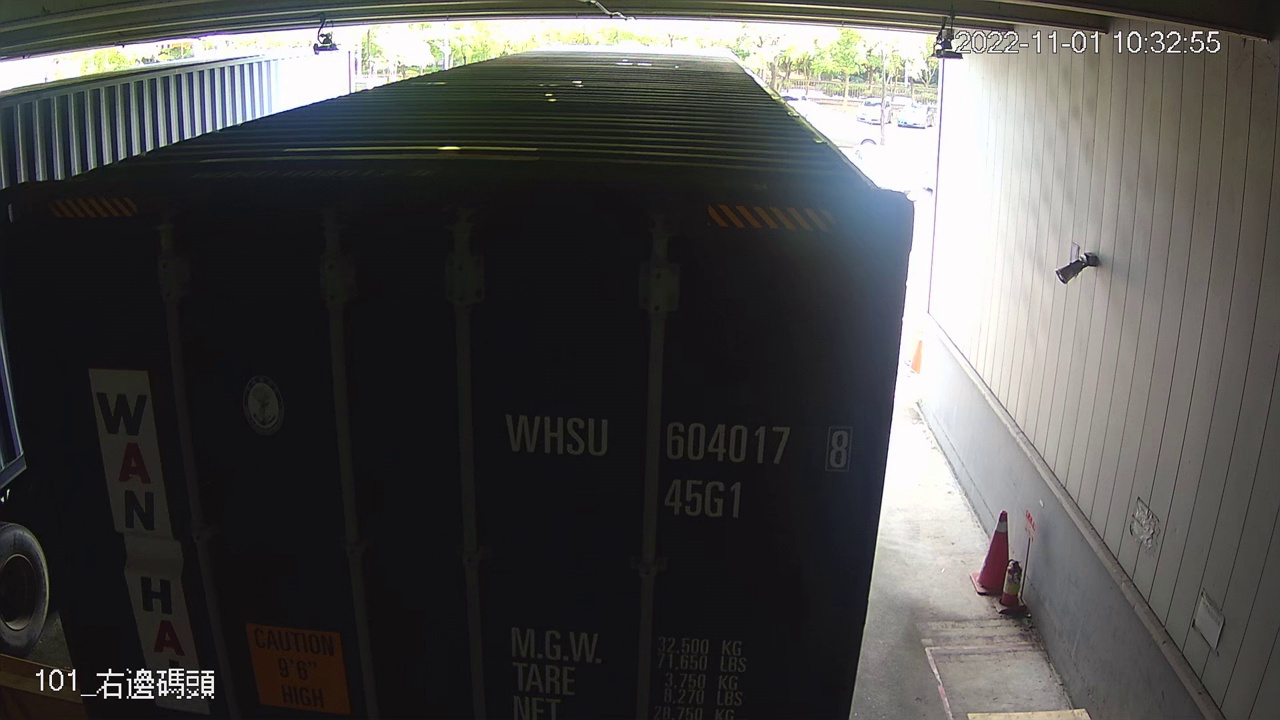container: (492, 394, 859, 525)
